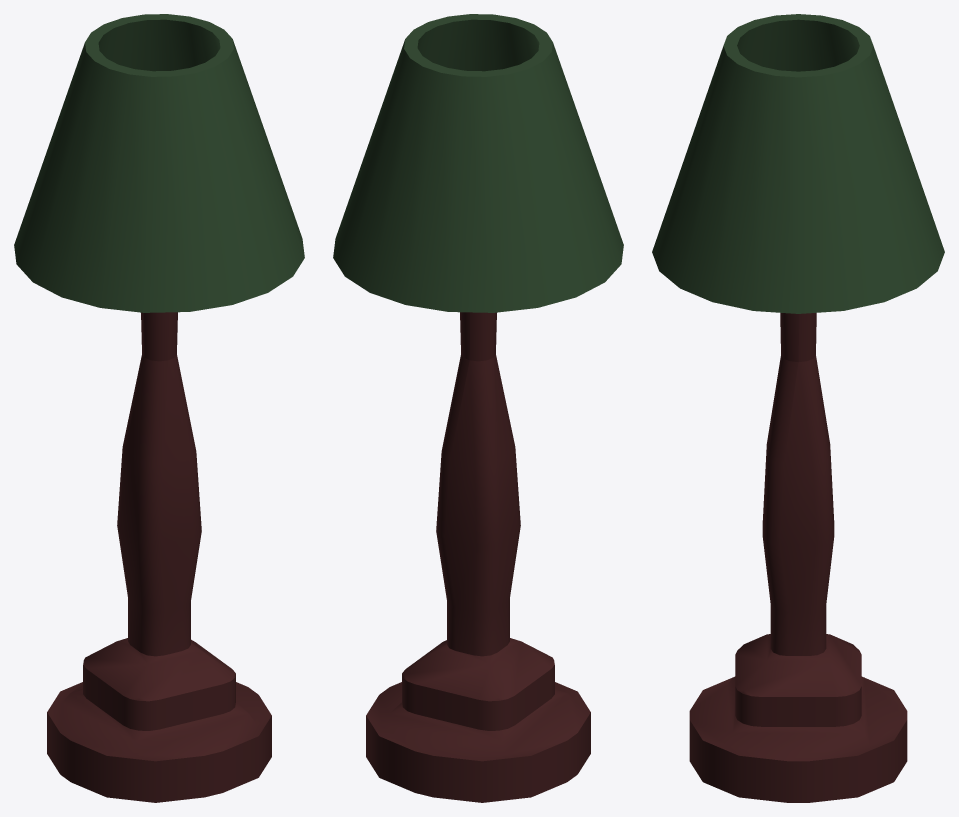
Rendered from Bedroom_Lamp_Big.fbx.
3 views of the same model, side by side, from view 1: azimuth 30°, elevation 25°; view 2: azimuth 150°, elevation 25°; view 3: azimuth 270°, elevation 25° (orthographic).
Parts seen in each view (by area): view 1: Bedroom_Lamp_Big; view 2: Bedroom_Lamp_Big; view 3: Bedroom_Lamp_Big.
Boxes of the visible parts, bbox=[...] form: Bedroom_Lamp_Big: bbox=[14, 14, 304, 802]; Bedroom_Lamp_Big: bbox=[333, 14, 623, 802]; Bedroom_Lamp_Big: bbox=[652, 14, 944, 802].
Size of the model in its own units: 37.7 by 101 by 37.7.
